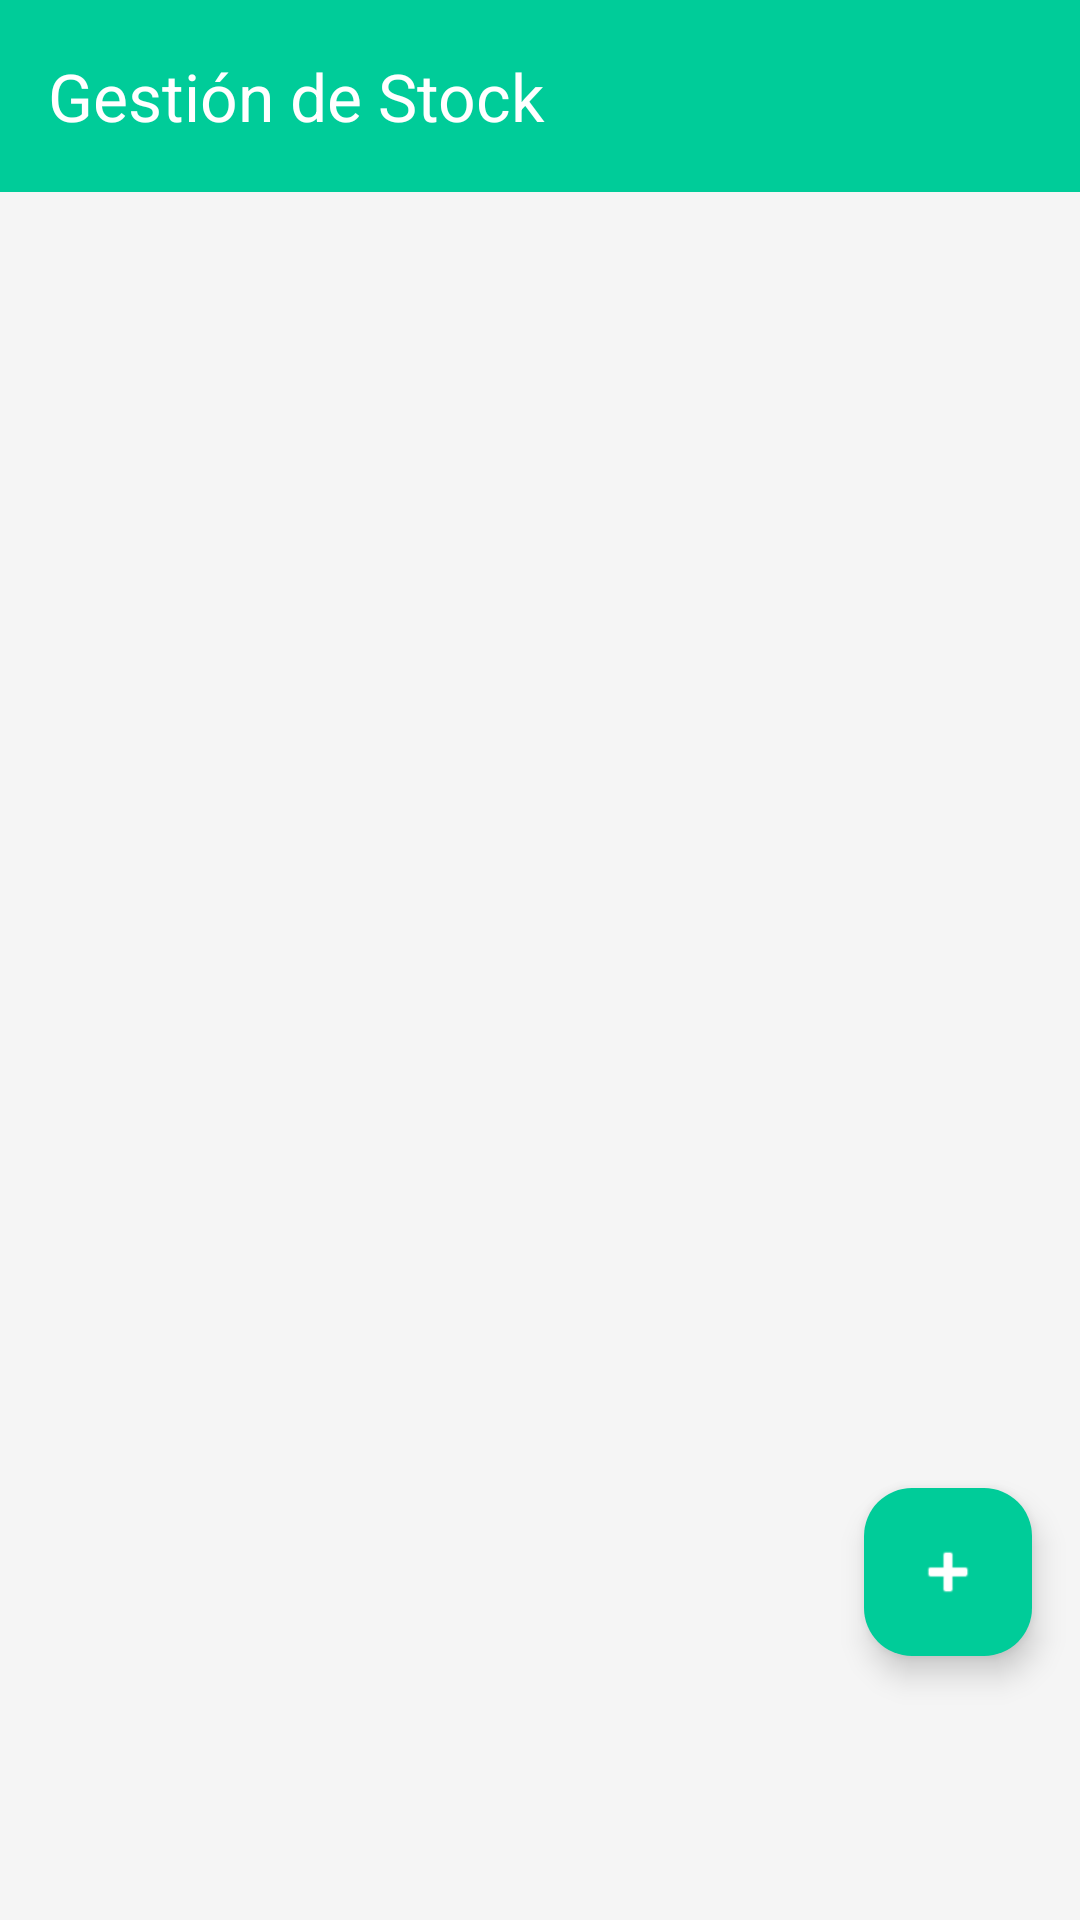

Named icons in this screenshot (1080x1920) and their bounding boxes, (x1,y1,x2,y2):
Añadir producto: (864,1488,1032,1656)
